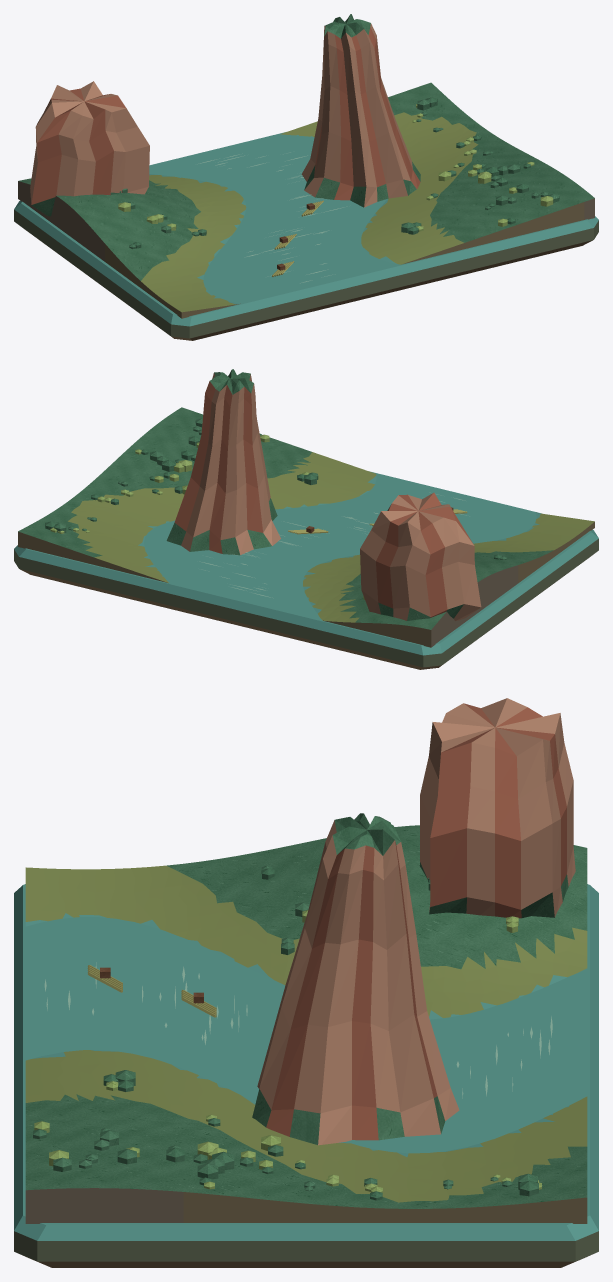
Rendered from wuyishan.glb.
The picture shows the model from 3 angles, top to bottom: view 1: azimuth 30°, elevation 25°; view 2: azimuth 150°, elevation 25°; view 3: azimuth 270°, elevation 25°; orthographic projection. The views are drawn at different scales.
Visible parts, largest first — view 1: 武夷山·九曲溪; view 2: 武夷山·九曲溪; view 3: 武夷山·九曲溪.
Boxes of the visible parts, x1=… form: 武夷山·九曲溪: x1=14, y1=14, x2=598, y2=340; 武夷山·九曲溪: x1=14, y1=369, x2=598, y2=669; 武夷山·九曲溪: x1=14, y1=698, x2=598, y2=1267.
Bounding box in the file's own units: 6.31 × 2.58 × 4.25.
14 materials, 4 textured.
